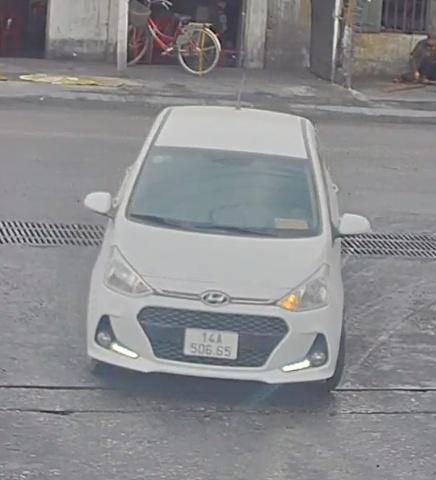vehicle plate: (179, 324, 240, 361)
